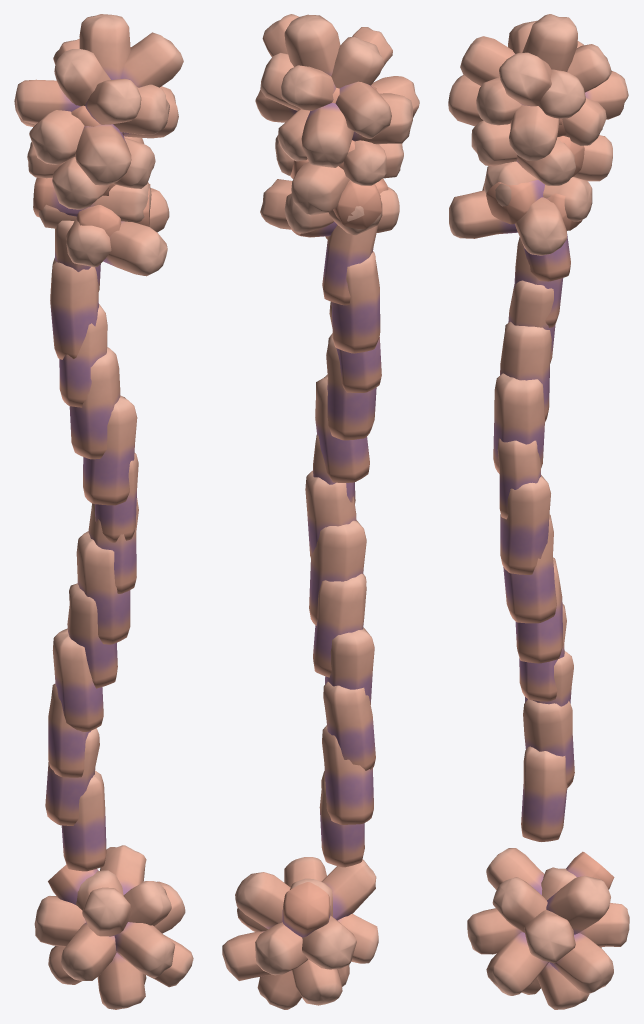
File: Polyp_CellCluster_Stage2.fbx
3 views of the same model, side by side, from view 1: azimuth 30°, elevation 25°; view 2: azimuth 150°, elevation 25°; view 3: azimuth 270°, elevation 25° (orthographic).
Parts seen in each view (by area): view 1: Polyp_CellCluster_Stage2; view 2: Polyp_CellCluster_Stage2; view 3: Polyp_CellCluster_Stage2.
Part boxes in pixels (x1=…): Polyp_CellCluster_Stage2: x1=14, y1=14, x2=193, y2=1009; Polyp_CellCluster_Stage2: x1=222, y1=14, x2=419, y2=1009; Polyp_CellCluster_Stage2: x1=448, y1=14, x2=629, y2=1009.
Bounding box in the file's own units: 2.6 × 15.54 × 2.61.
